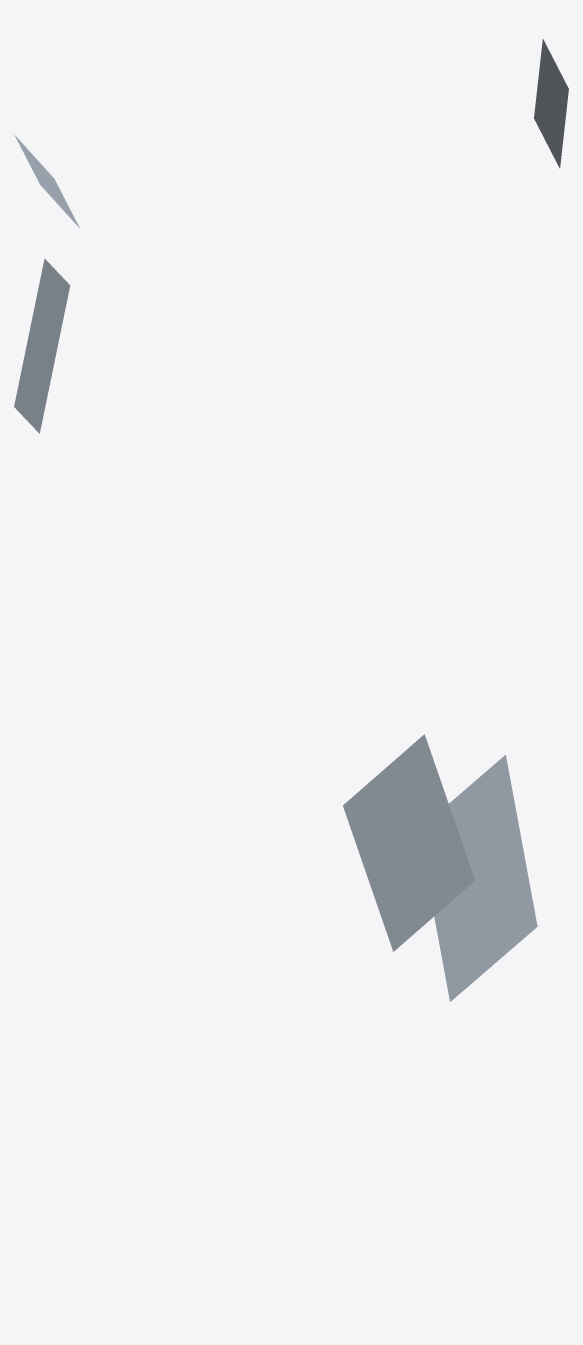
File: cuneometatarsal-interosseous-ligaments-r.glb
The picture shows the model from 3 angles, top to bottom: view 1: azimuth 30°, elevation 25°; view 2: azimuth 150°, elevation 25°; view 3: azimuth 270°, elevation 25°; orthographic projection. The views are drawn at different scales.
Parts seen in each view (by area): view 1: Cuneometatarsal interosseous ligaments.r; view 2: Cuneometatarsal interosseous ligaments.r; view 3: Cuneometatarsal interosseous ligaments.r.
Boxes of the visible parts, x1,y1,x2,y2 form: Cuneometatarsal interosseous ligaments.r: (14,39,568,228); Cuneometatarsal interosseous ligaments.r: (14,258,70,433); Cuneometatarsal interosseous ligaments.r: (343,734,537,1001).
Size of the model in its own units: 0.0248 by 0.0102 by 0.0119.
